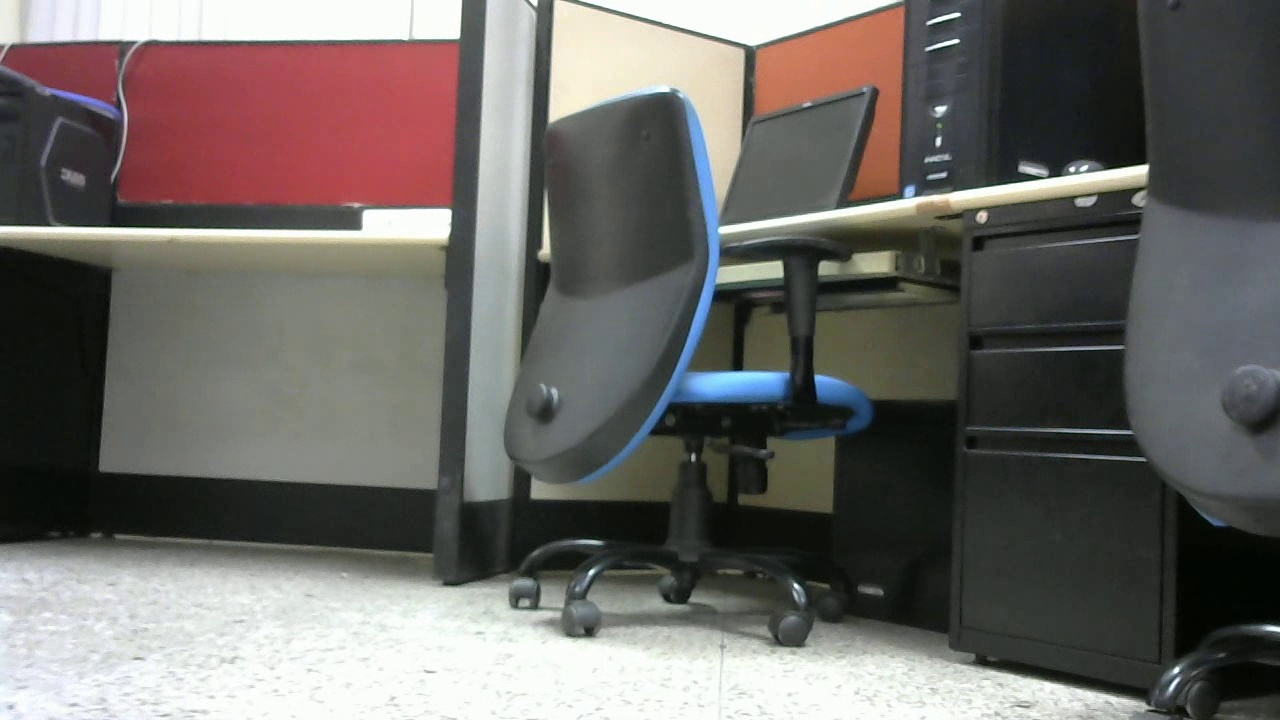chair: (501, 87, 882, 652)
